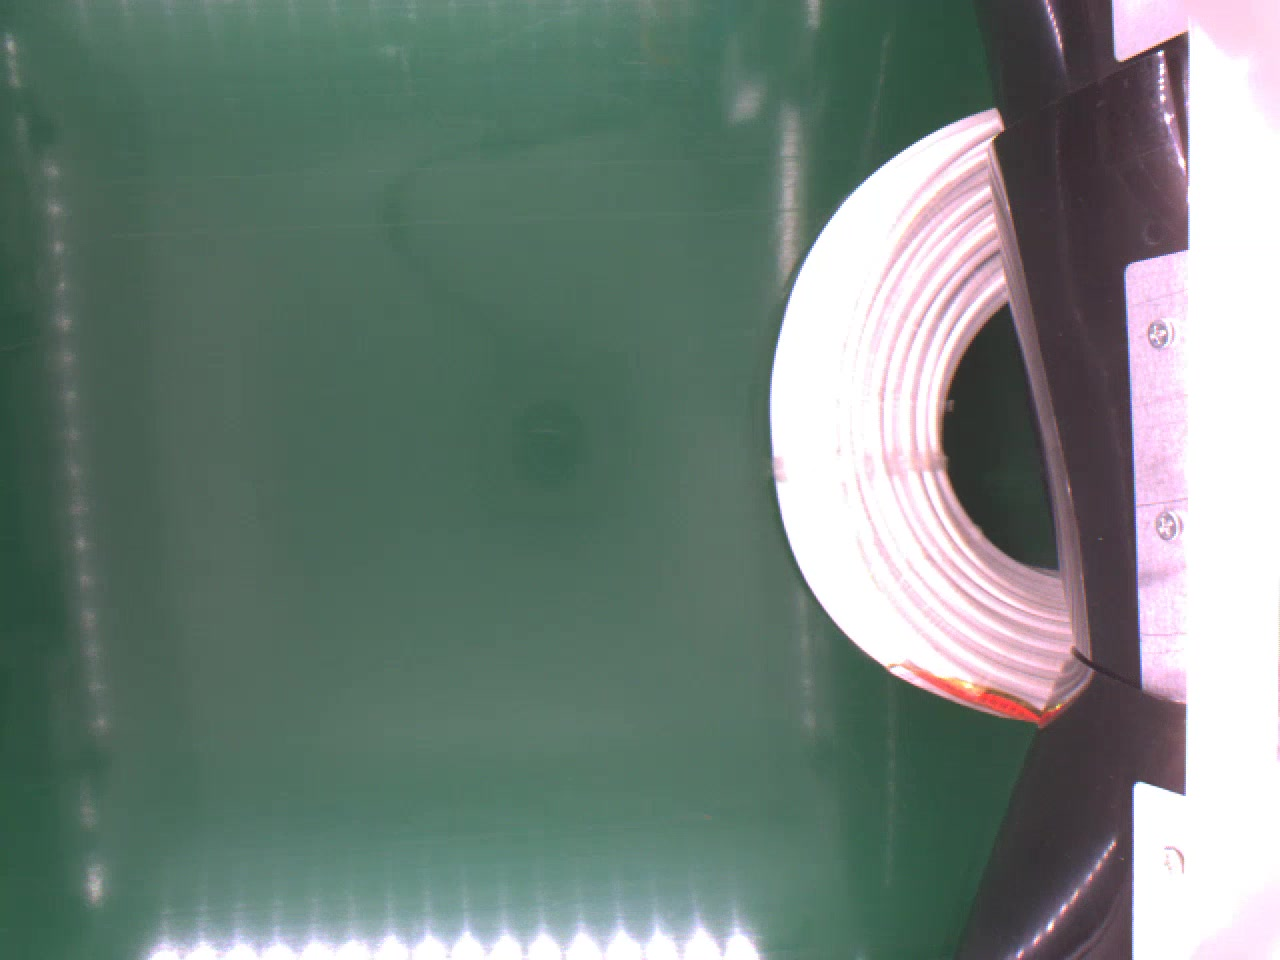white: (768, 108, 1074, 718)
